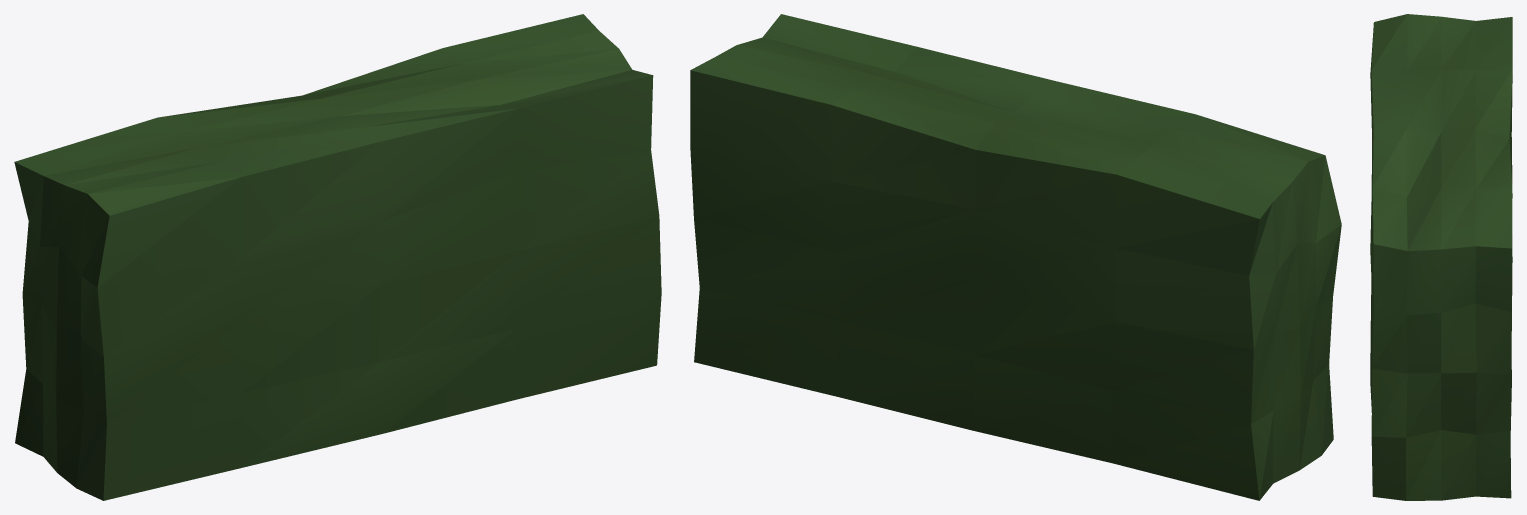
The model's file is veg_hack_0.glb.
3 renders of one model, left to right at view 1: azimuth 30°, elevation 25°; view 2: azimuth 150°, elevation 25°; view 3: azimuth 270°, elevation 25°, orthographic. The views are drawn at different scales.
Visible parts, largest first — view 1: geometry_0; view 2: geometry_0; view 3: geometry_0.
Part boxes in pixels (x1,y1,x2,y2): geometry_0: [14, 14, 661, 500]; geometry_0: [690, 14, 1341, 500]; geometry_0: [1370, 14, 1512, 500].
Bounding box in the file's own units: 2.06 × 1 × 0.5142.
